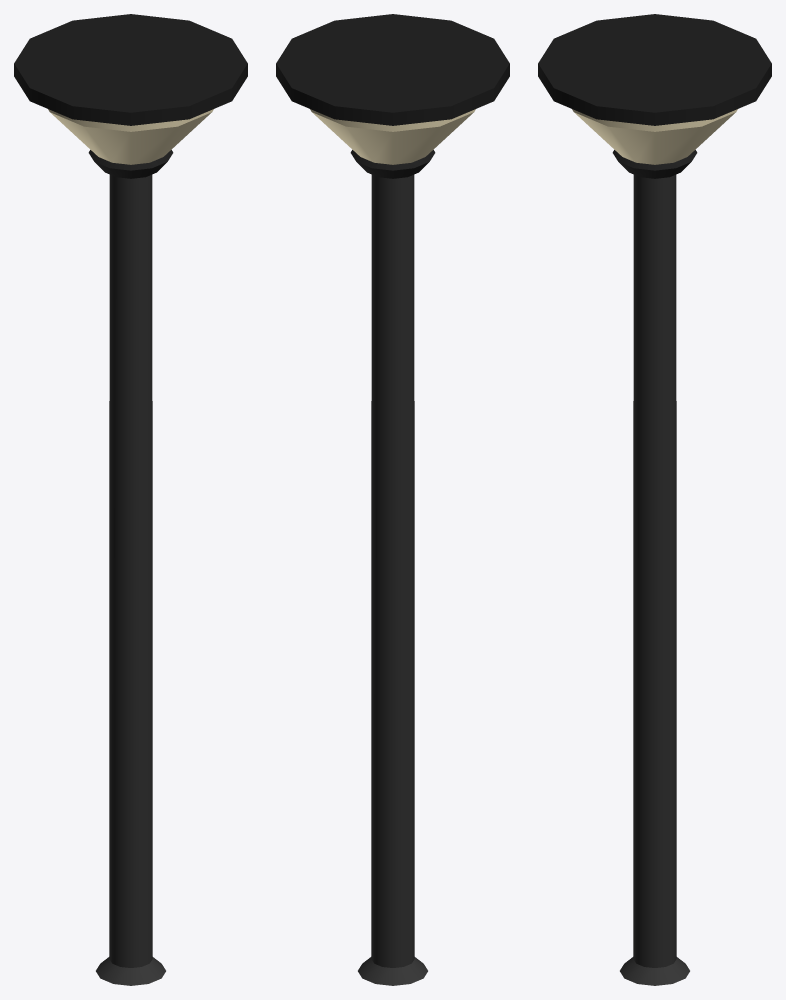
File: street lamp.fbx
3 renders of one model, left to right at view 1: azimuth 30°, elevation 25°; view 2: azimuth 150°, elevation 25°; view 3: azimuth 270°, elevation 25°, orthographic.
Parts seen in each view (by area): view 1: Streetlamp; view 2: Streetlamp; view 3: Streetlamp.
Boxes of the visible parts, bbox=[...] form: Streetlamp: bbox=[14, 14, 247, 985]; Streetlamp: bbox=[276, 14, 509, 985]; Streetlamp: bbox=[538, 14, 771, 985].
Size of the model in its own units: 154 by 662 by 154.
